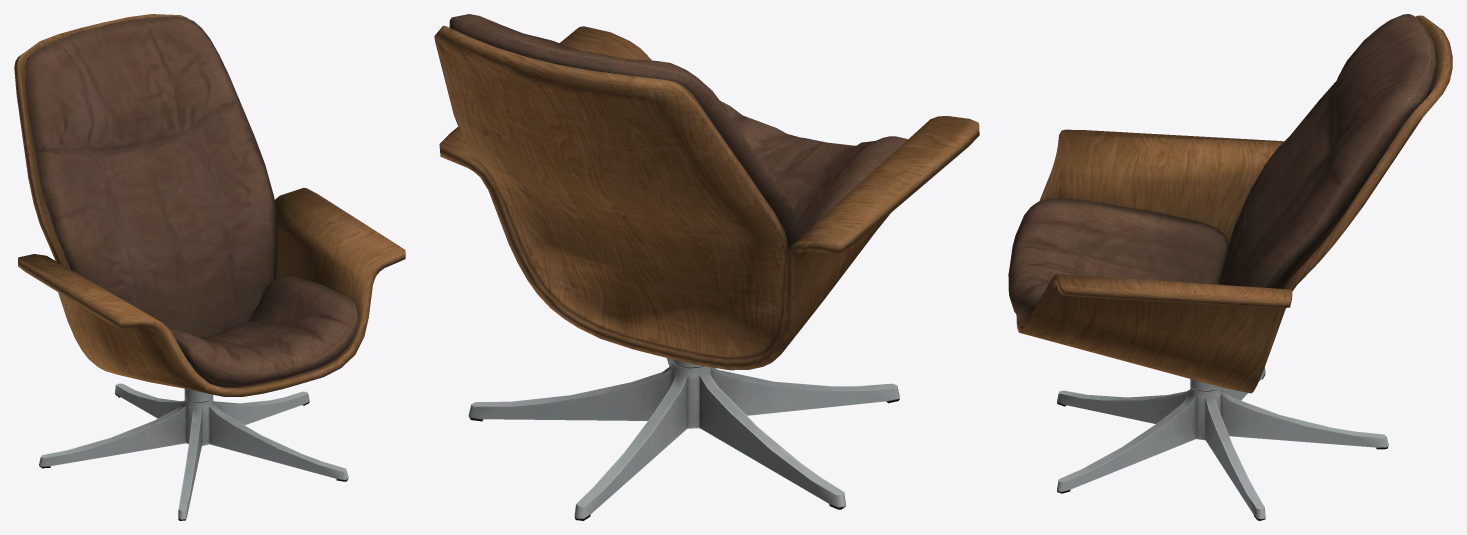
File: mid_century_lounge_chair.glb
3 renders of one model, left to right at view 1: azimuth 30°, elevation 25°; view 2: azimuth 150°, elevation 25°; view 3: azimuth 270°, elevation 25°, orthographic. The views are drawn at different scales.
Parts seen in each view (by area): view 1: mid_century_lounge_chair; view 2: mid_century_lounge_chair; view 3: mid_century_lounge_chair.
Boxes of the visible parts, x1=… form: mid_century_lounge_chair: x1=14, y1=14, x2=405, y2=520; mid_century_lounge_chair: x1=434, y1=14, x2=979, y2=520; mid_century_lounge_chair: x1=1008, y1=14, x2=1452, y2=520.
Size of the model in its own units: 1.01 by 1.17 by 1.19.
1 material, 1 textured.
